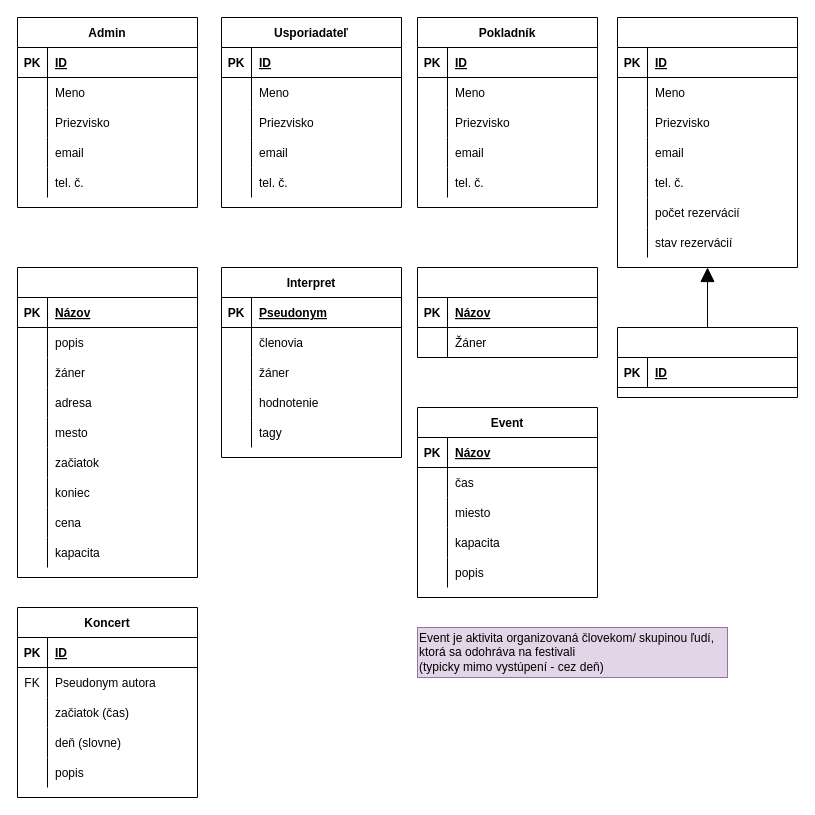
Image size: 815x815. Some labels were removed from this diagram. The box of each missing label's shape, as (x1, y1, x2, y2) in pixels:
Divák: (616, 16, 798, 268)
Festival: (16, 266, 198, 578)
Nereg. návštevník: (616, 326, 798, 398)
Stage: (416, 266, 598, 358)
